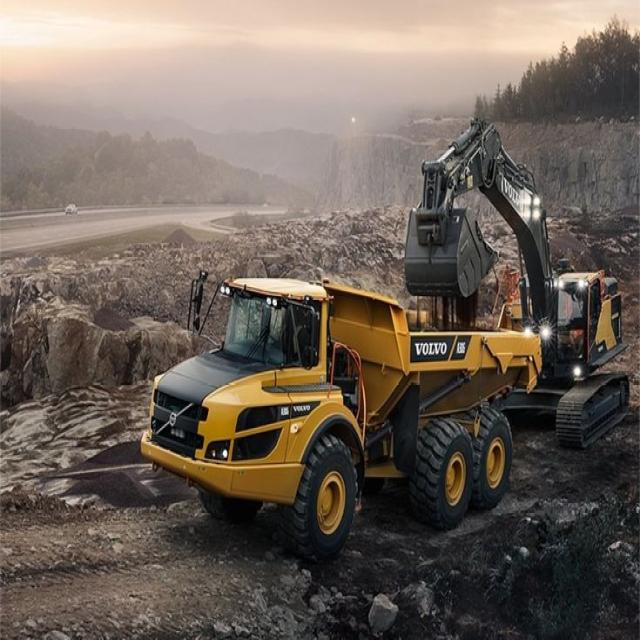dump_truck: (156, 265, 534, 551)
excavator: (400, 115, 630, 436)
